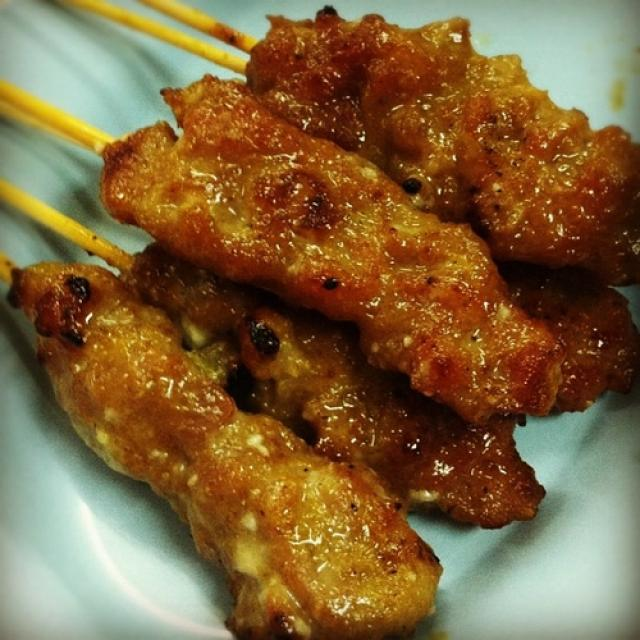牛肉菜式: (18, 13, 623, 623)
